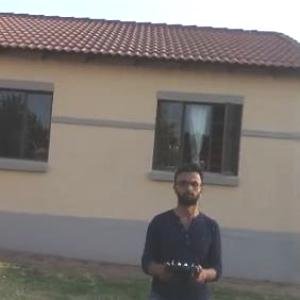follow: (136, 158, 228, 299)
